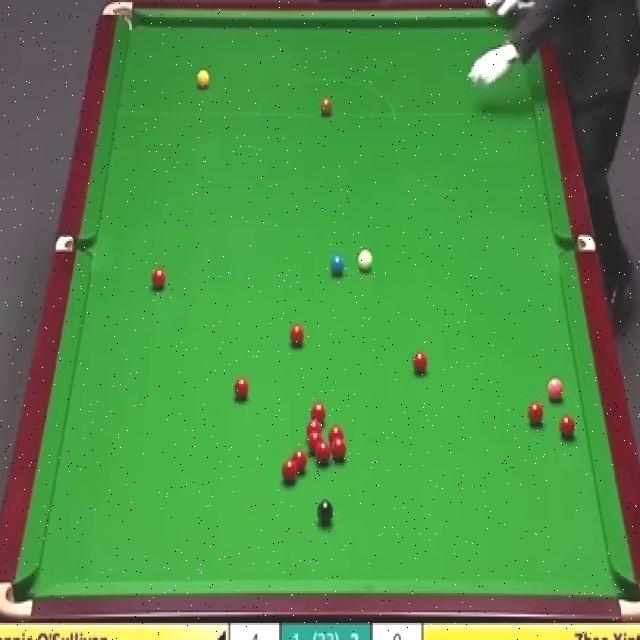black-ball: (316, 498, 334, 528)
blue-ball: (330, 253, 346, 275)
brown-ball: (319, 96, 333, 117)
pink-ball: (547, 376, 564, 402)
red-ball: (232, 375, 250, 404), (292, 452, 310, 478), (528, 401, 546, 427), (281, 460, 298, 486), (559, 416, 577, 440), (413, 350, 429, 376), (331, 438, 347, 463), (289, 324, 305, 348), (152, 267, 166, 292), (316, 440, 330, 464), (309, 402, 327, 420), (306, 418, 322, 436), (308, 433, 322, 452), (329, 428, 343, 442)
white-ball: (357, 248, 373, 273)
yellow-ball: (197, 70, 211, 91)
